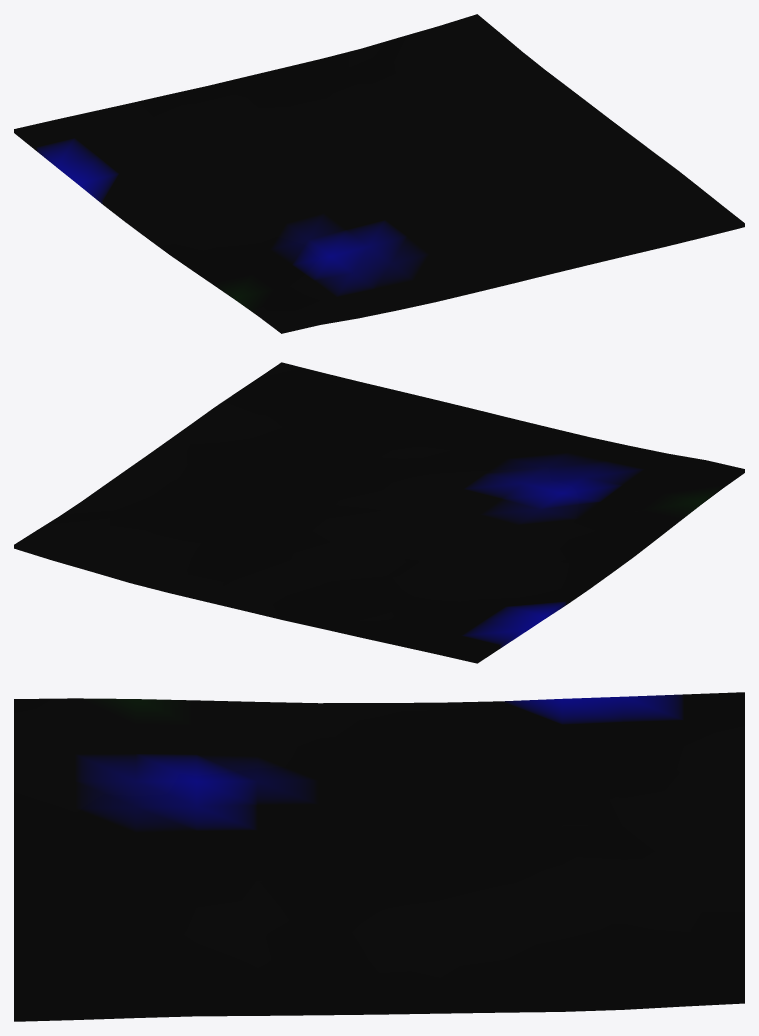
The model's file is coast_1_5.glb.
3 views of the same model, one above another, from view 1: azimuth 30°, elevation 25°; view 2: azimuth 150°, elevation 25°; view 3: azimuth 270°, elevation 25° (orthographic). The views are drawn at different scales.
Visible parts, largest first — view 1: terrain; view 2: terrain; view 3: terrain.
Boxes of the visible parts, x1,y1,x2,y2 form: terrain: [14, 14, 744, 333]; terrain: [14, 362, 744, 663]; terrain: [14, 692, 744, 1021].
Bounding box in the file's own units: 192 × 6.94 × 192.
